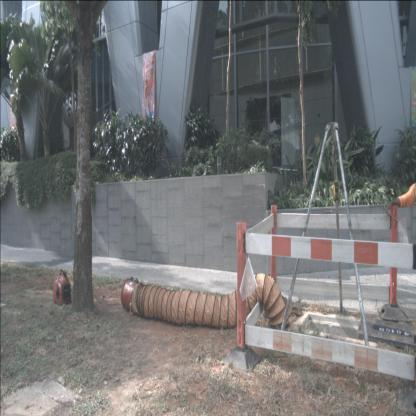barrier: (220, 222, 416, 414), (263, 203, 411, 323)
